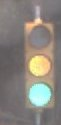Green: (20, 19, 55, 116)
